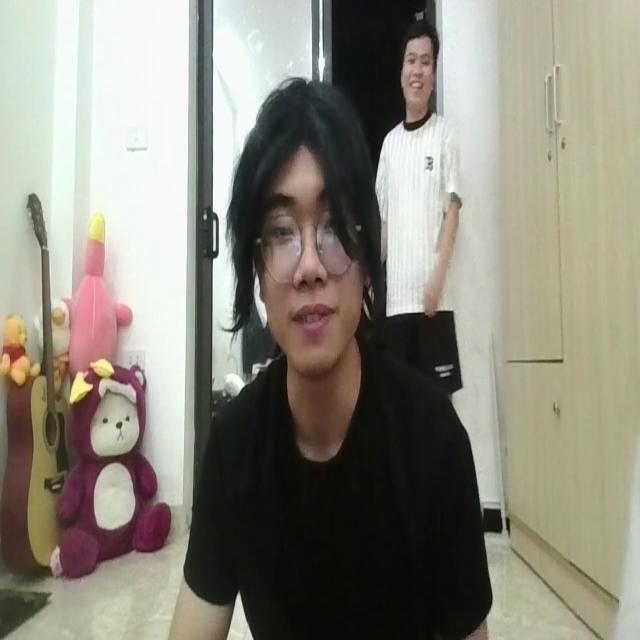extra_person: (373, 22, 470, 390)
student: (153, 77, 490, 640)
